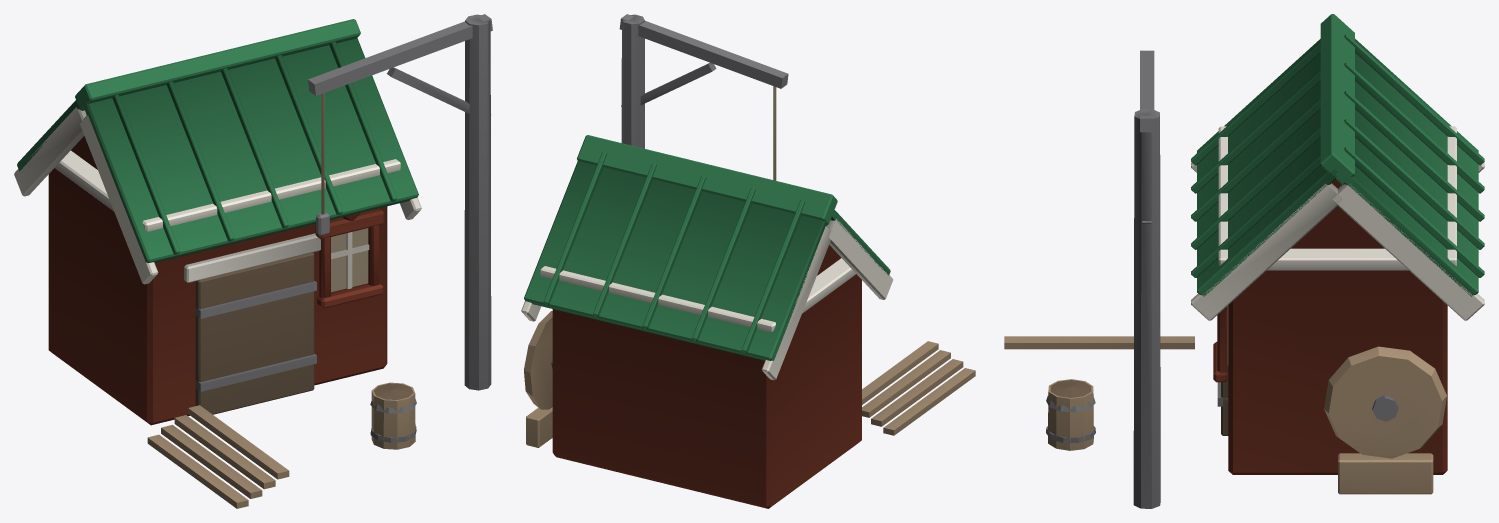
The model's file is bld_remdvor.glb.
3 views of the same model, side by side, from view 1: azimuth 30°, elevation 25°; view 2: azimuth 150°, elevation 25°; view 3: azimuth 270°, elevation 25° (orthographic). The views are drawn at different scales.
Visible parts, largest first — view 1: remdvor; view 2: remdvor; view 3: remdvor.
Boxes of the visible parts, x1,y1,x2,y2 form: remdvor: [14, 14, 492, 508]; remdvor: [521, 14, 975, 508]; remdvor: [1004, 14, 1484, 508].
Bounding box in the file's own units: 0.8251 × 0.9024 × 1.01.
